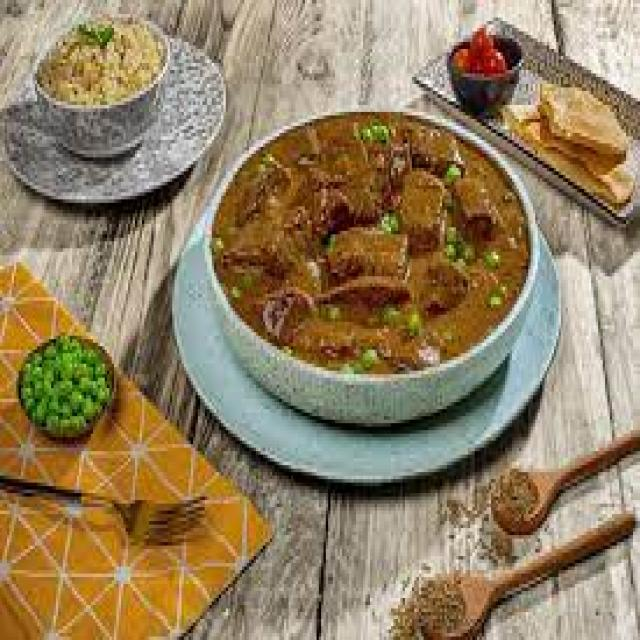kamouniya: (213, 108, 534, 377)
